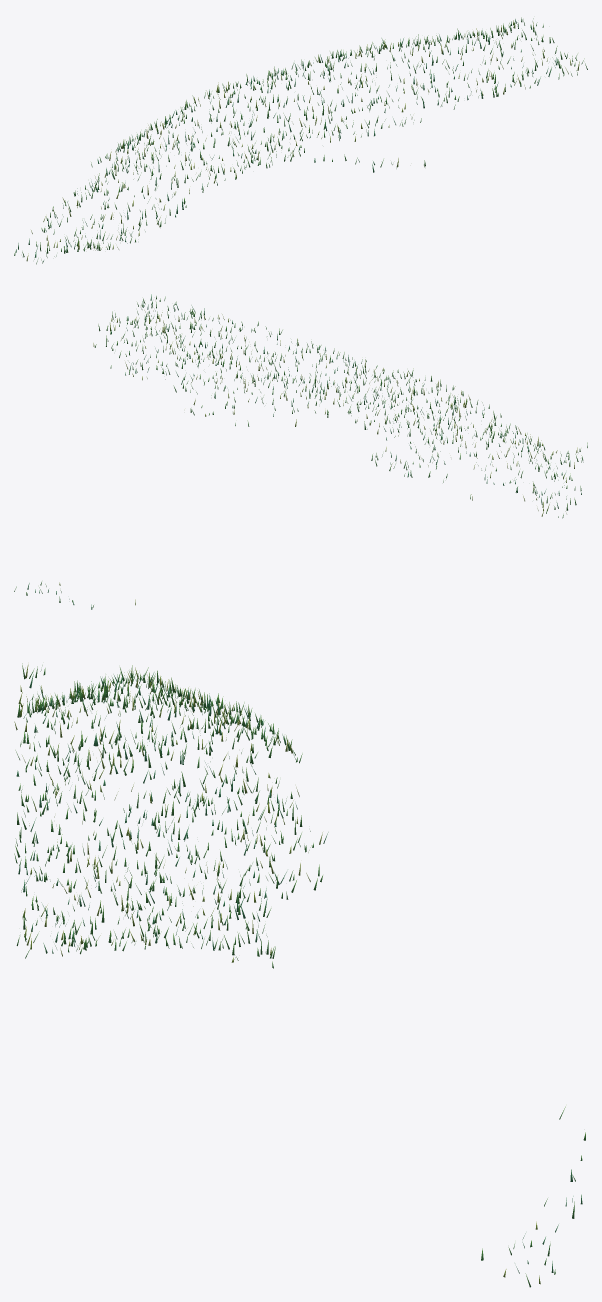
3 renders of one model, top to bottom at view 1: azimuth 30°, elevation 25°; view 2: azimuth 150°, elevation 25°; view 3: azimuth 270°, elevation 25°, orthographic. The views are drawn at different scales.
Parts seen in each view (by area): view 1: gc_53; view 2: gc_53; view 3: gc_53.
Part boxes in pixels (x1,y1,x2,y2): gc_53: (14,17,587,264); gc_53: (14,294,587,609); gc_53: (14,663,585,1287).
Size of the model in its own units: 18.1 by 7.65 by 11.11.
1 material, 1 textured.
